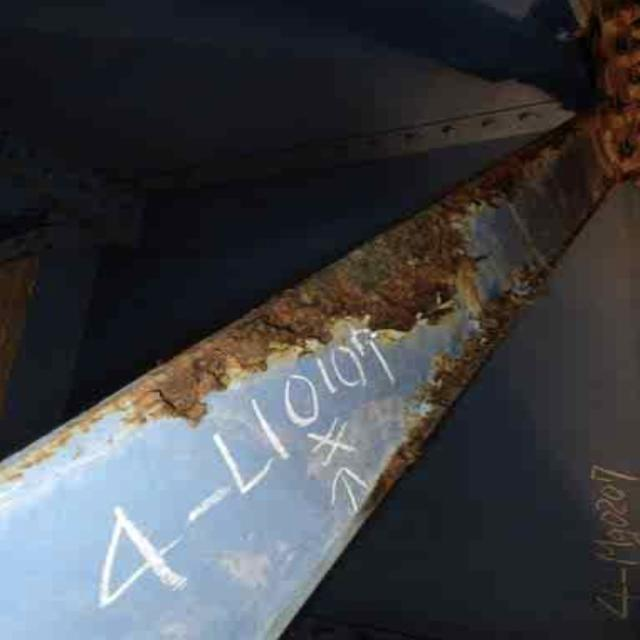corrosion: (163, 193, 558, 487), (533, 4, 640, 179)
